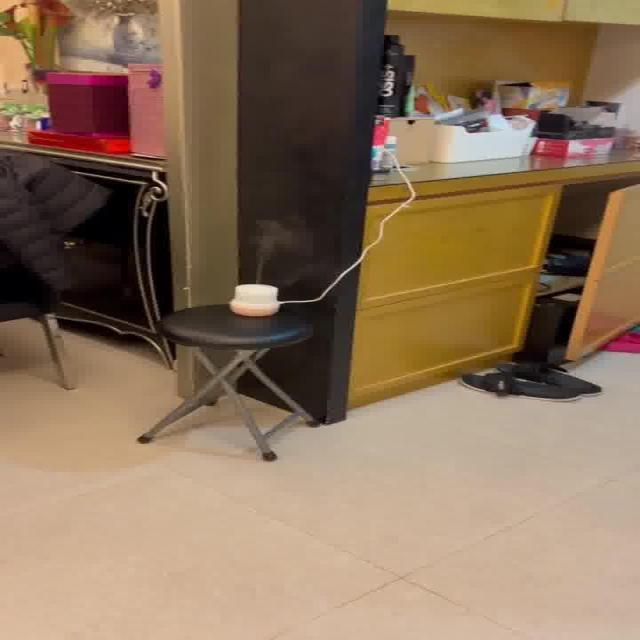fire: (246, 213, 316, 280)
